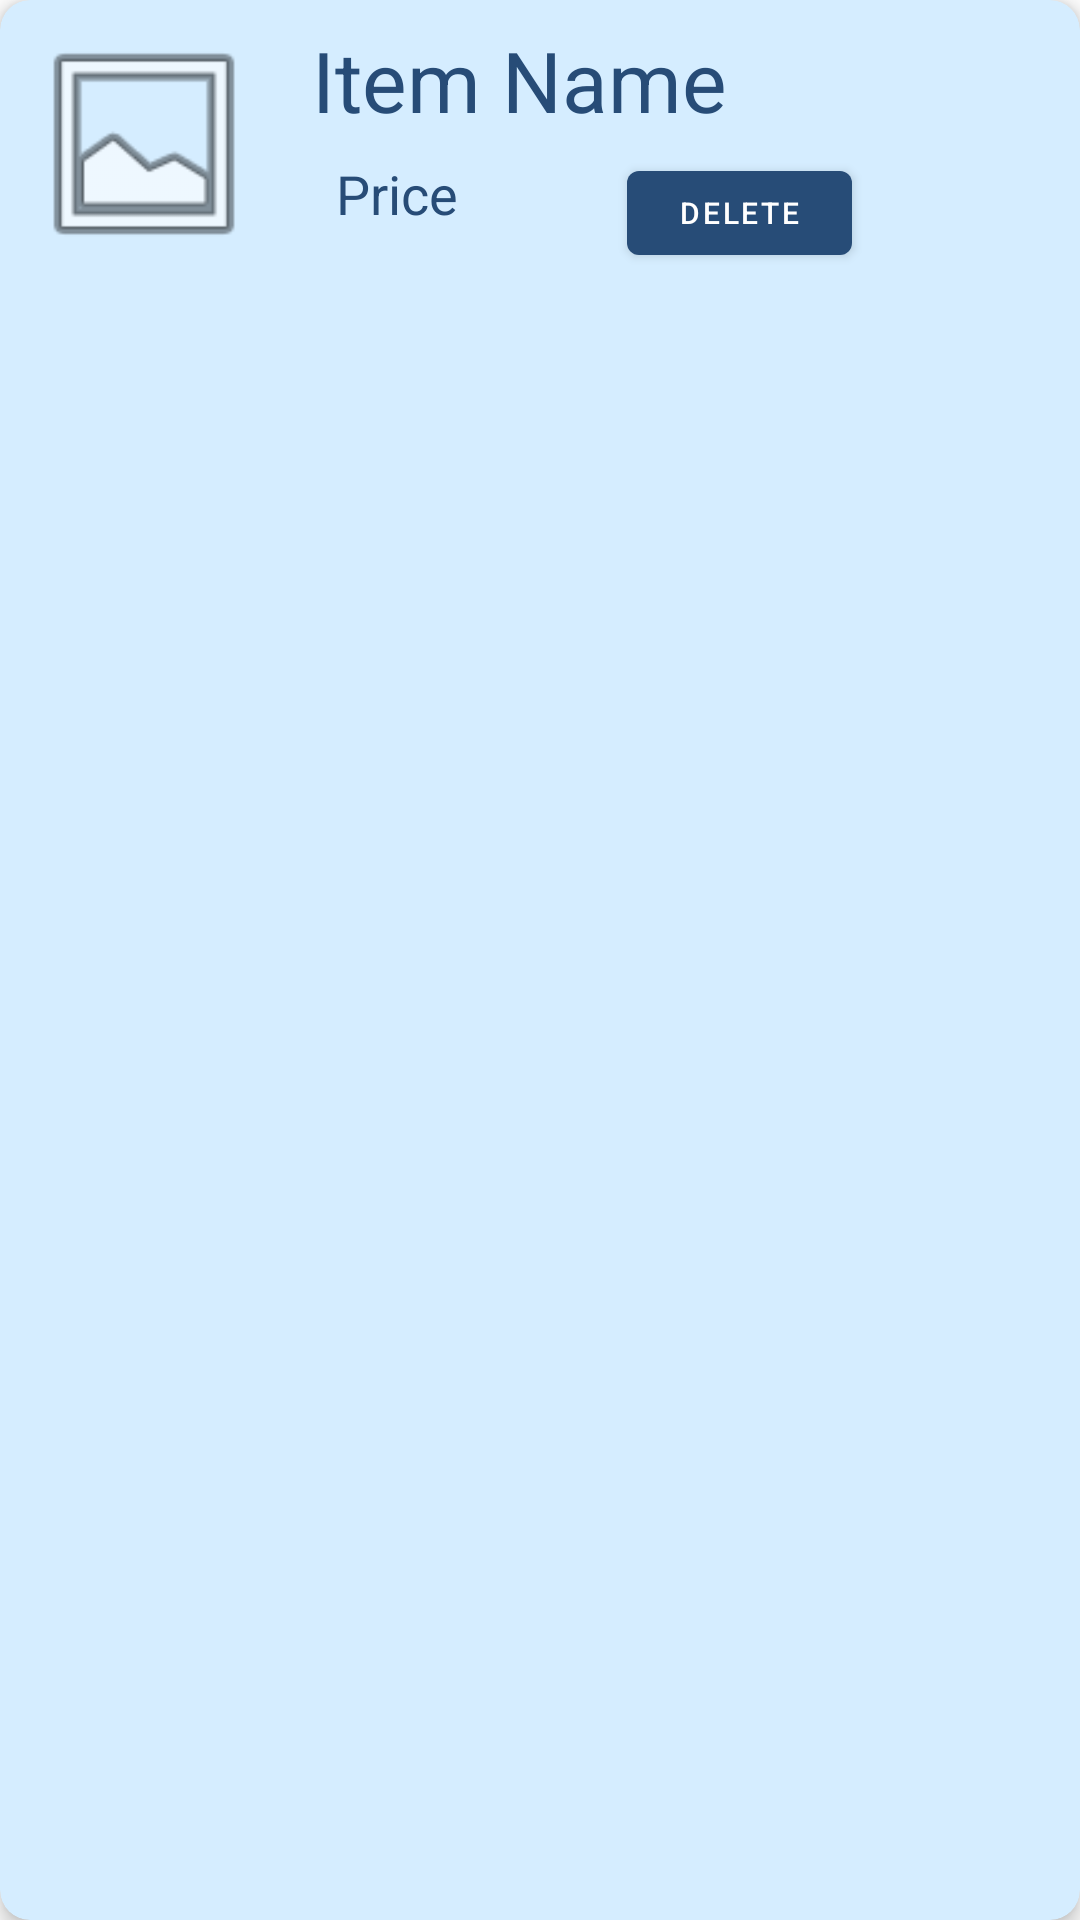

Icons on this 1080×1920 Android screen, each with the point to tap as (x=x, y=y):
gallery: (x=144, y=144)
